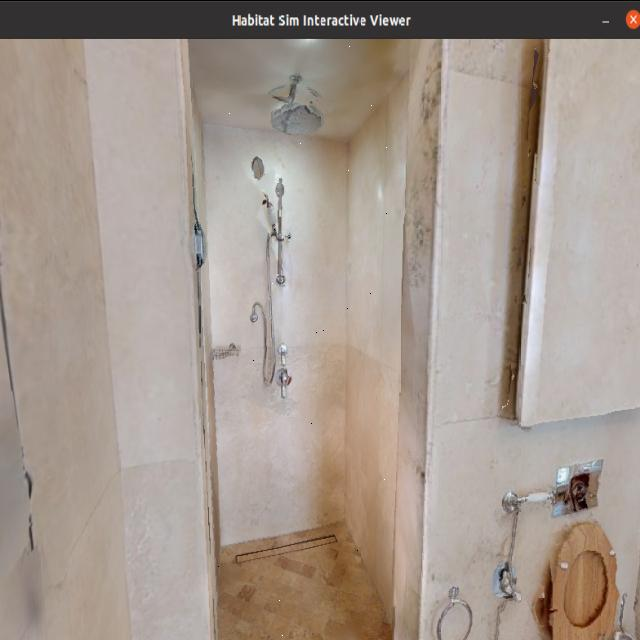shower: (212, 39, 395, 640)
